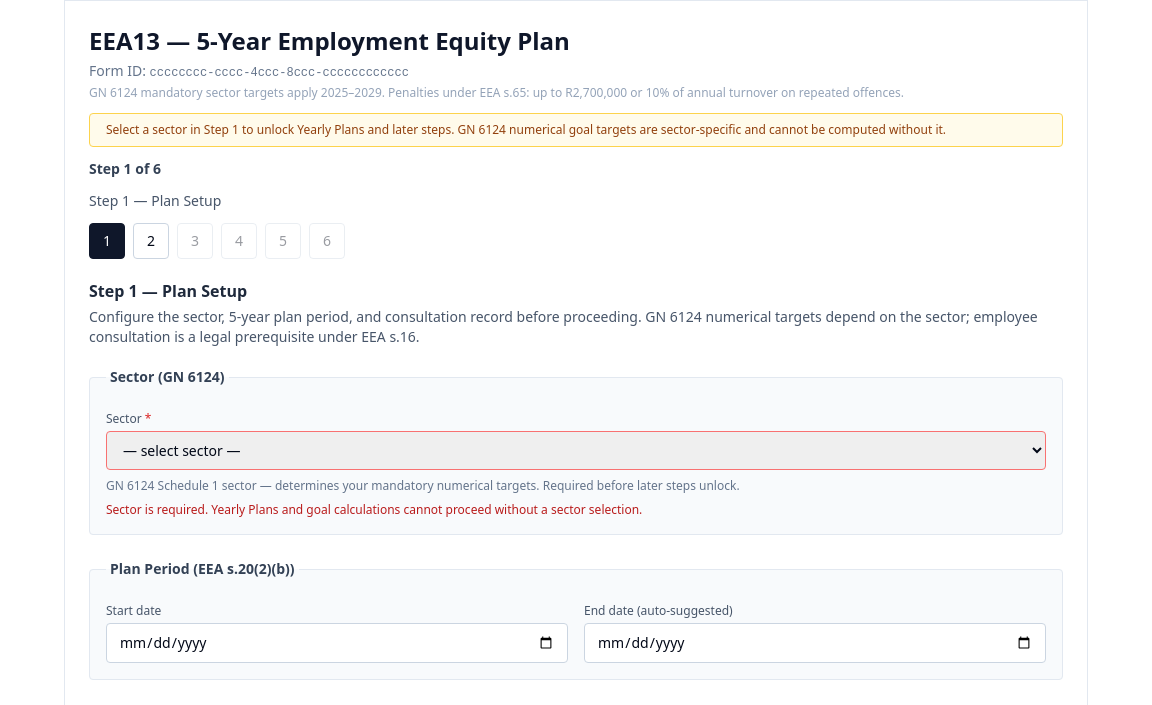
it: EEA13Form — plan period › shows live day count indicator when both dates are set
Type "2025-01-01" into the date field with test id "eea13-period-start" at (337, 643), box [106,623,568,663]
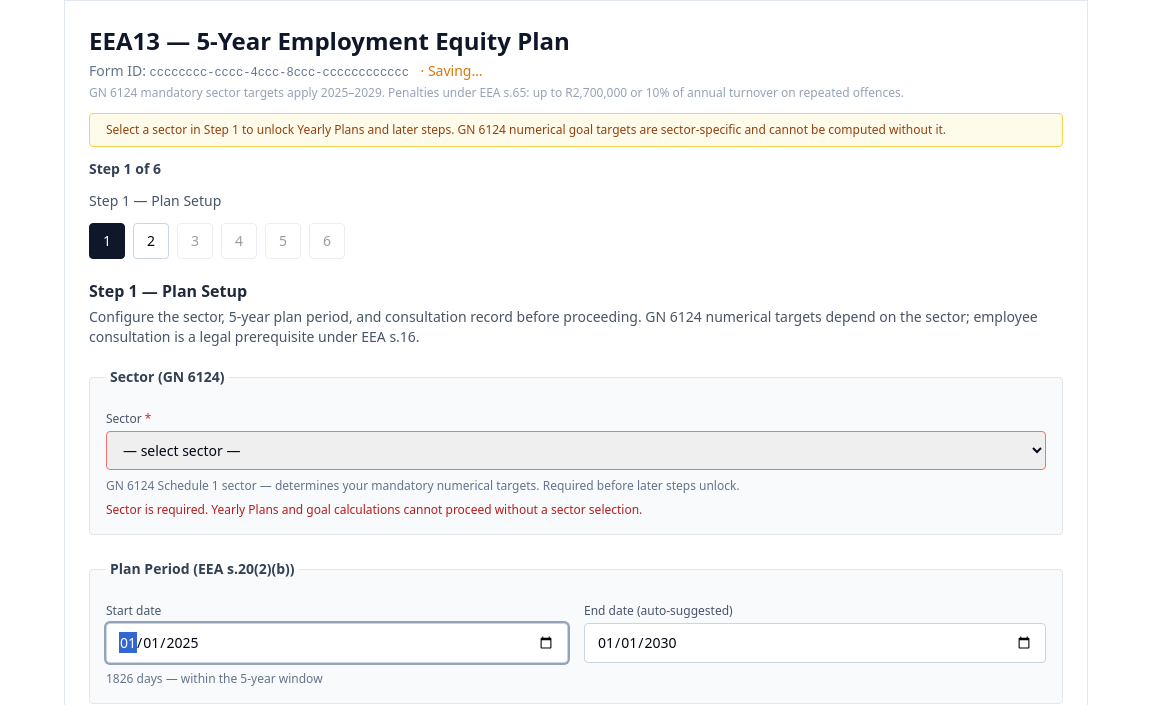
Expected: the text "1826 days — within the 5-year window" is shown, [106,670,323,687]
